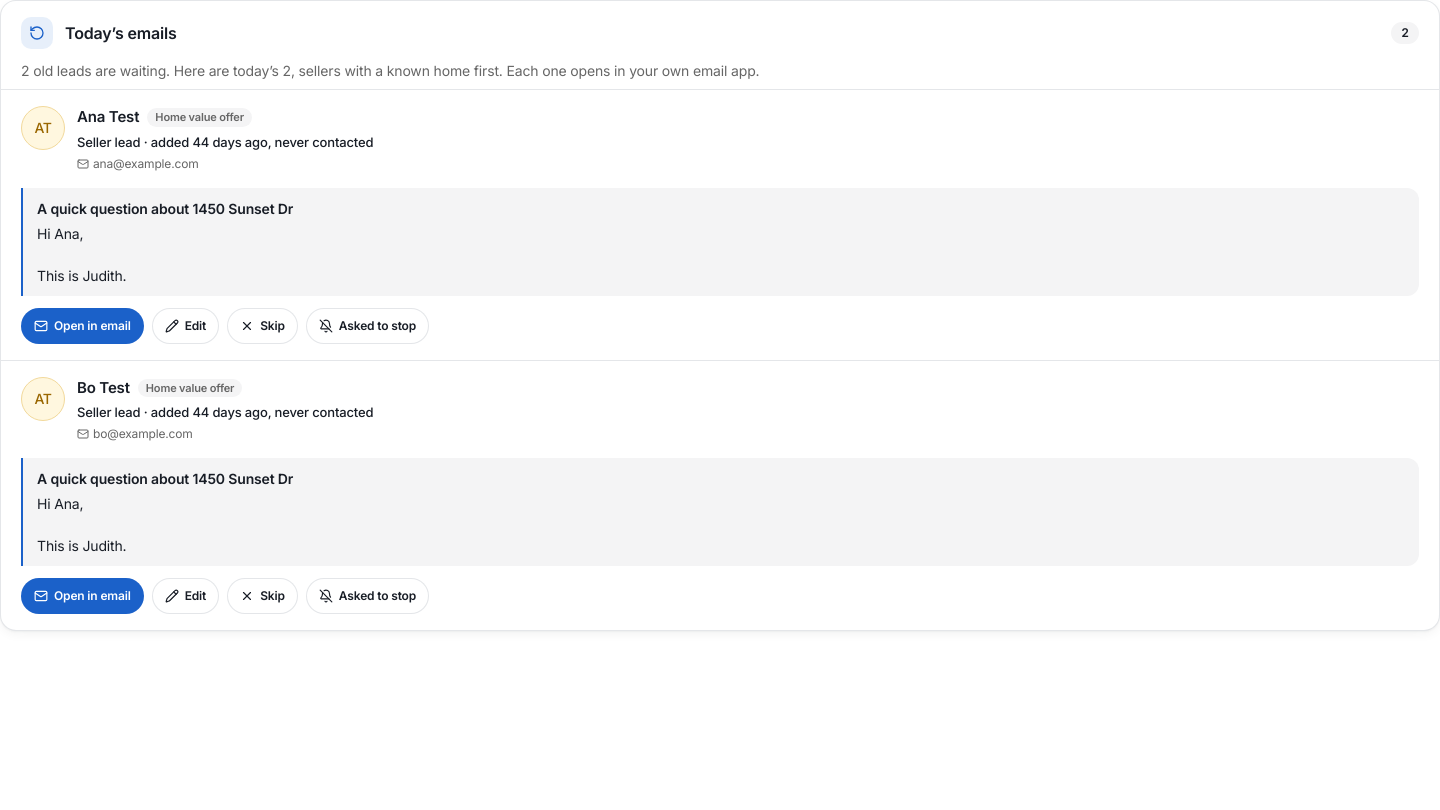
ReviveLeads › asks before turning email off, and remembers skips for the day
Click the button "Asked to stop" below "Ana Test".
click(367, 326)  # box [306,308,429,344]
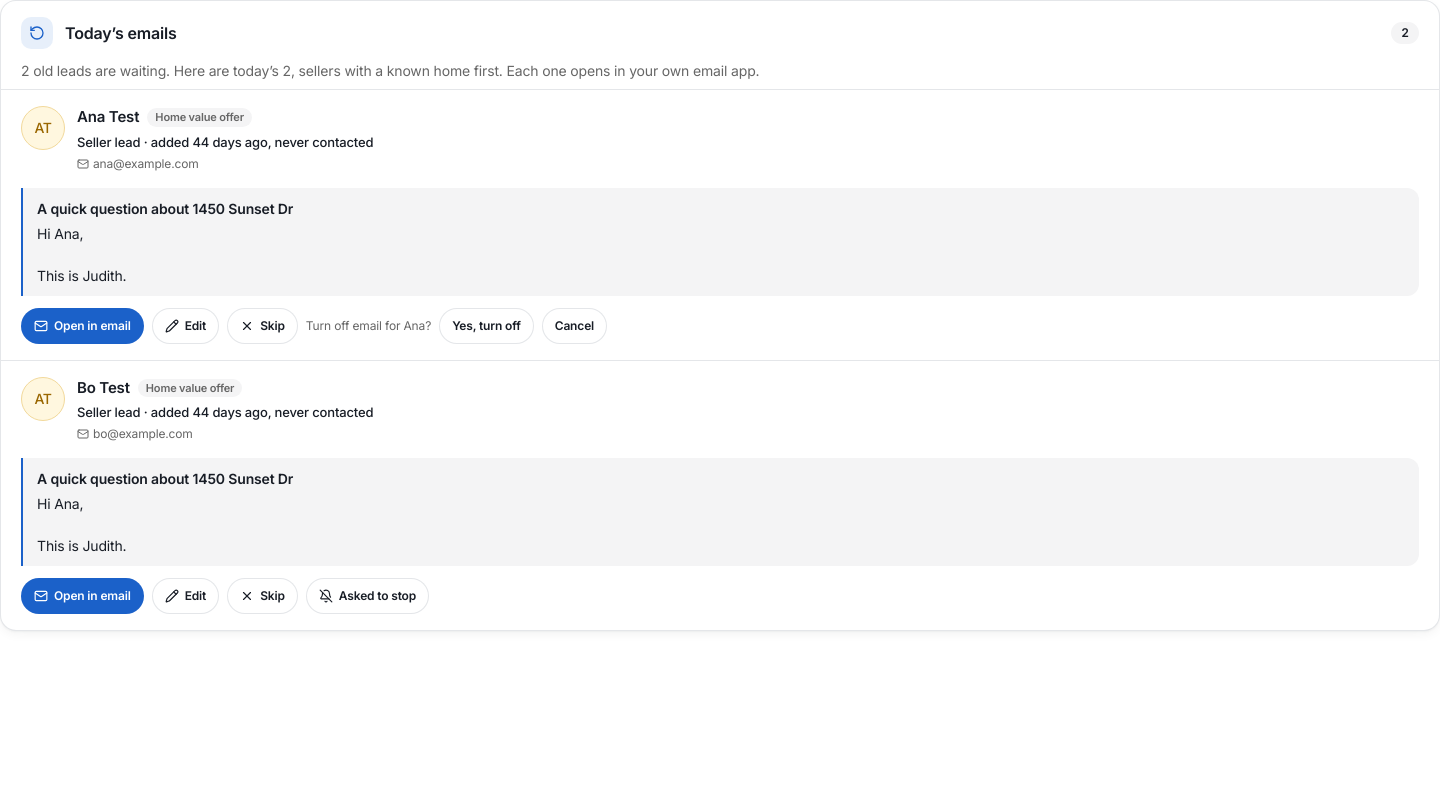
Click the button "Yes, turn off".
click(486, 326)  # box [439,308,534,344]
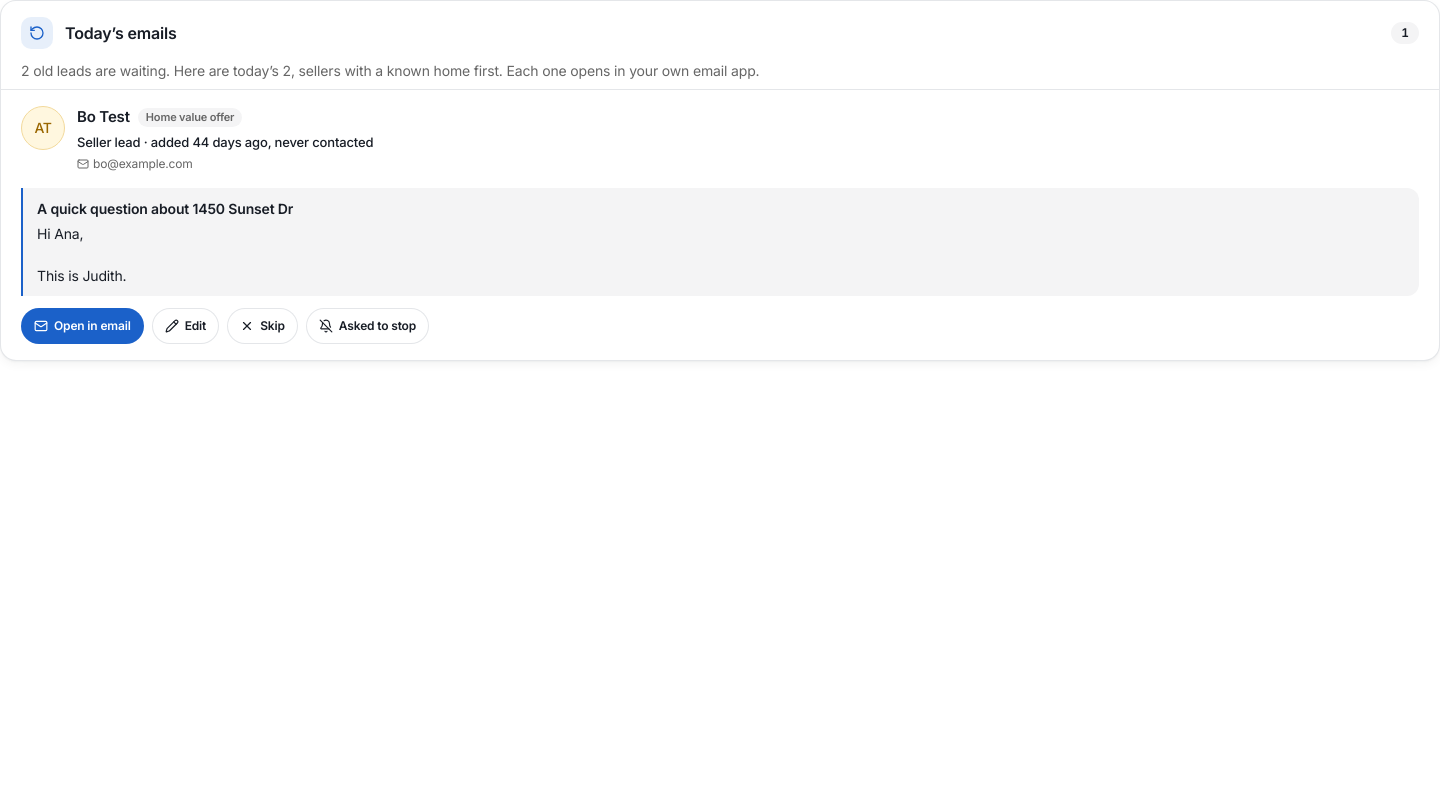
Click the button with aria-label "Skip Bo Test for today".
click(262, 326)  # box [227,308,298,344]
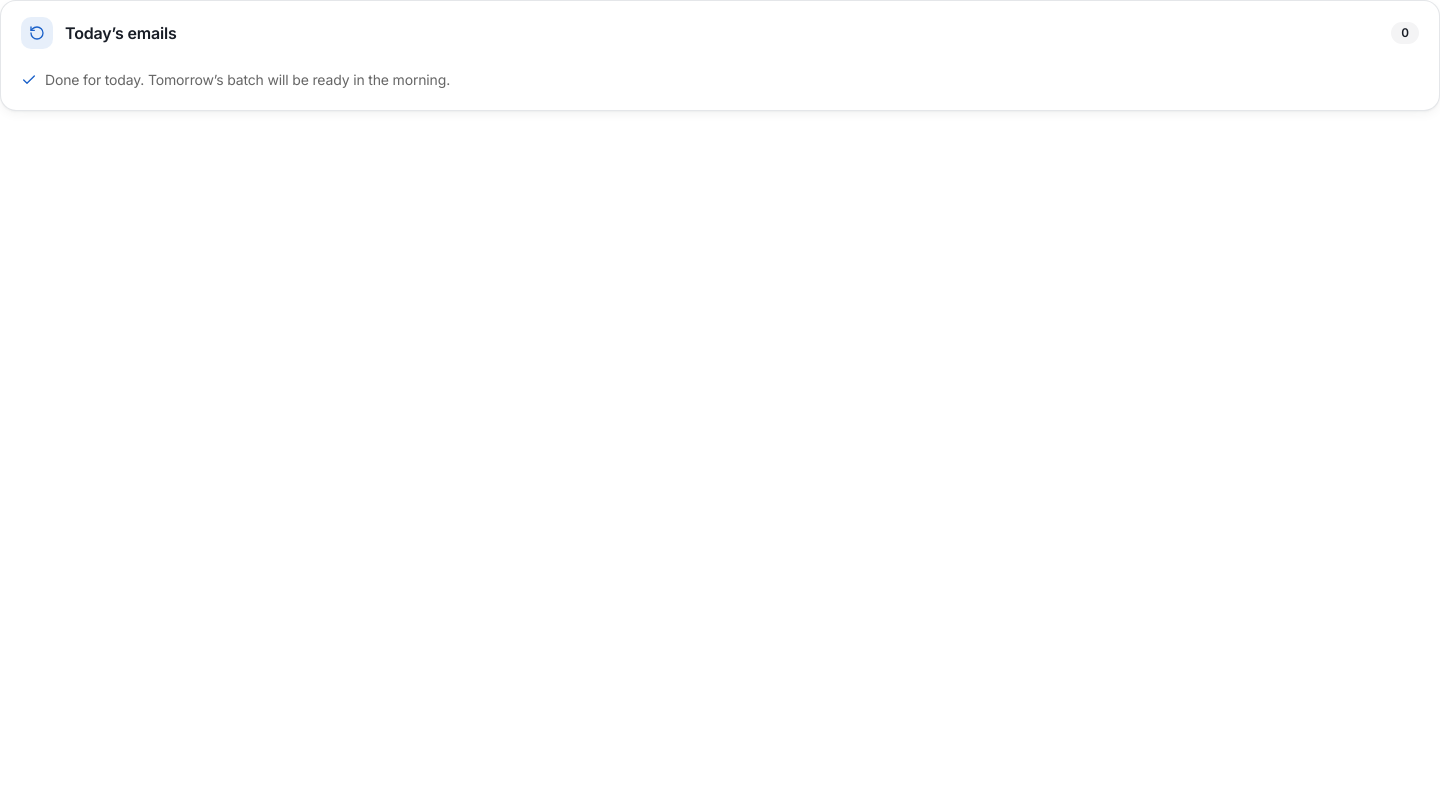
Check: the message shows "Done for today", box [45,71,450,88]
